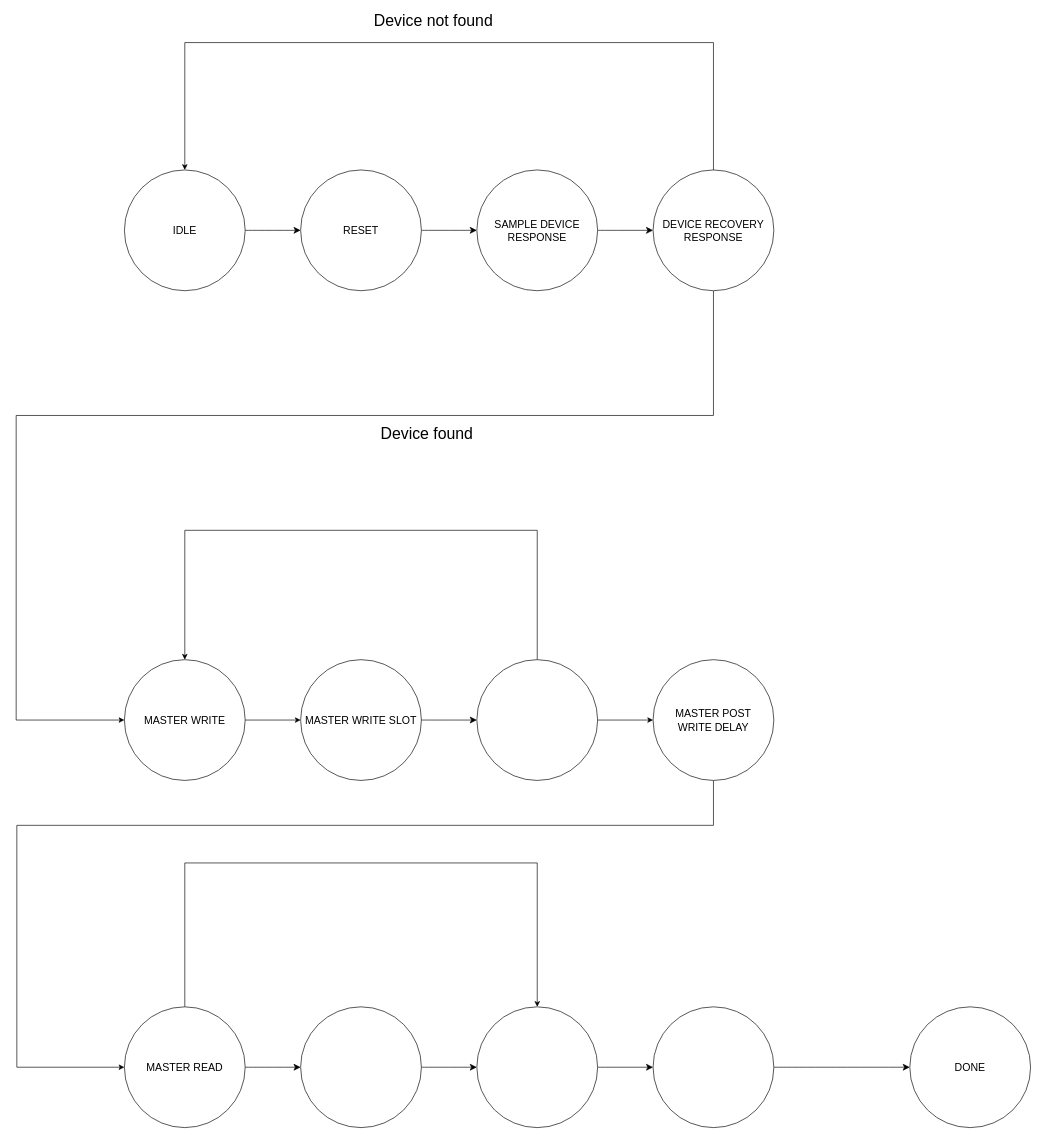
Some shapes in this 1042 by 1139 pixel diagram are drawn without their labels. The shapes that lost their labels are listed below. From the top down, each one's box as (x1, y1, x2, y2) in pixels, then its label:
(476, 659, 598, 780): MASTER WRITE RECOVERY
(300, 1006, 421, 1128): MASTER AWAIT READ SAMPLE
(476, 1006, 598, 1128): MASTER READ RECOVERY
(652, 1006, 774, 1128): MASTER POST READ DELAY
